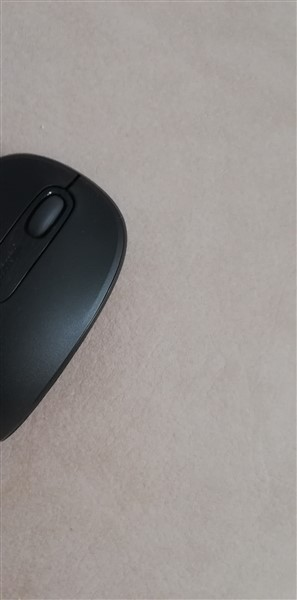mouse: (1, 150, 133, 449)
